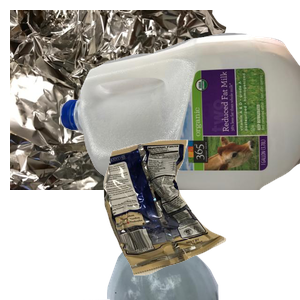glass: (83, 120, 294, 300)
metal: (10, 10, 229, 190)
plastic: (60, 30, 300, 210)
trash: (101, 137, 300, 300)
